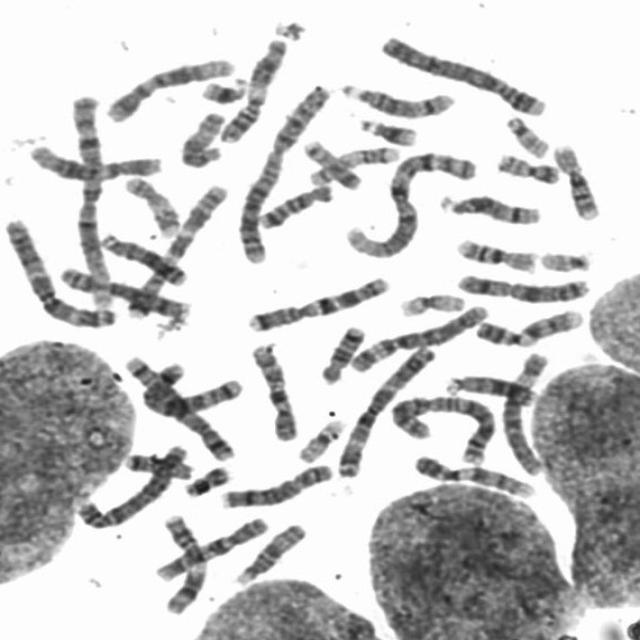A1: (338, 144, 479, 259), (63, 85, 116, 314)
A2: (229, 76, 334, 266), (380, 387, 500, 466)
A3: (329, 339, 440, 480), (0, 211, 118, 330)
B4: (373, 27, 551, 118), (69, 438, 191, 530)
B5: (119, 349, 236, 463), (118, 347, 245, 418)
C10: (147, 509, 272, 584), (242, 335, 301, 442)
C11: (213, 31, 290, 145), (154, 508, 210, 616)
C12: (97, 51, 239, 123), (20, 136, 164, 182)
C6: (344, 296, 492, 374), (494, 345, 555, 478)
C7: (118, 176, 231, 321), (240, 269, 392, 333)
C8: (53, 260, 193, 322), (212, 457, 336, 510)
C9: (405, 448, 539, 500), (467, 301, 586, 348)
D13: (93, 226, 190, 287), (439, 367, 540, 409)
D14: (334, 76, 458, 120), (431, 186, 544, 226)
D15: (228, 515, 310, 586), (172, 104, 228, 170)
E16: (546, 137, 604, 221), (448, 230, 540, 274)
E17: (302, 138, 402, 188), (117, 169, 183, 238)
E18: (252, 177, 336, 231), (314, 319, 368, 385)
F19: (290, 412, 348, 464), (391, 285, 468, 318)
F20: (295, 133, 366, 191), (488, 146, 562, 185)
G21: (351, 111, 420, 147), (194, 70, 252, 106)
G22: (498, 108, 552, 159), (532, 244, 594, 273)
X: (449, 266, 593, 304)
Y: (176, 458, 232, 498)
